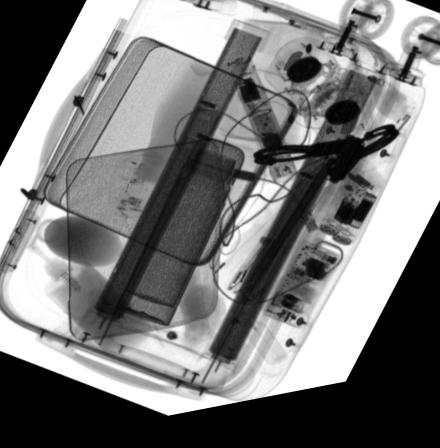Baton: (225, 64, 302, 193)
HandCuffs: (253, 137, 403, 196)
